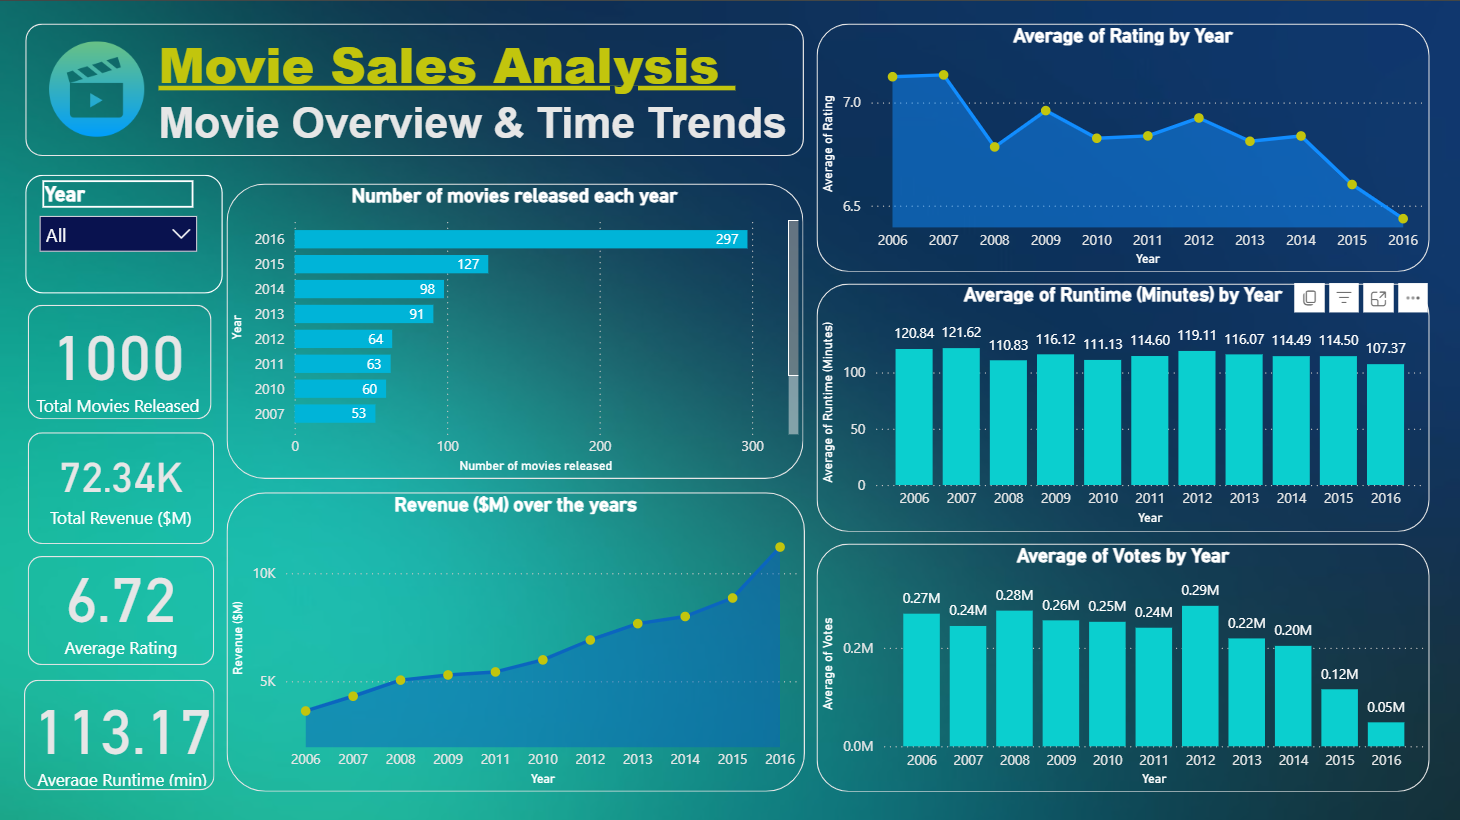

Layout of this report page (visuals, bound fields, positions):
{"tool":"powerbi","page":{"name":"Page 1","canvas":[1280,720],"ordinal":0},"visuals":[{"type":"shape","box":[22.9,19.3,680.4,115.8],"z":0,"group":"g1"},{"type":"shape","box":[199.1,159.3,504.3,258.2],"z":0},{"type":"shape","box":[25.3,265.4,160.5,100.1],"z":0,"group":"g2"},{"type":"textbox","box":[134.7,19.3,568.6,115.8],"z":10,"group":"g1"},{"type":"image","box":[22.9,30.2,125.2,92.9],"z":18,"group":"g1"},{"type":"clusteredBarChart","title":"Number of movies released each year ","fields":{"Category":["IMDB-Movies.Year"],"Y":["CountNonNull(IMDB-Movies.Title)"]},"box":[197.9,159.3,505.5,258.2],"z":1000},{"type":"shape","box":[199.1,429.5,505.5,261.8],"z":2000},{"type":"stackedAreaChart","title":"Revenue ($M) over the years ","fields":{"Y":["Sum(IMDB-Movies.Revenue (Millions))"],"Category":["IMDB-Movies.Year"]},"box":[199.1,429.5,505.5,261.8],"z":3000},{"type":"group","id":"g1","title":"Group 1","box":[22.9,19.3,680.4,115.8],"z":4000},{"type":"shape","box":[25.3,376.4,162.9,97.7],"z":5000,"group":"g4"},{"type":"card","fields":{"Values":["IMDB-Movies.Average Runtime"]},"box":[19.3,593.6,176.1,97.7],"z":5000},{"type":"shape","box":[714.2,19.3,535.7,217.2],"z":6000},{"type":"shape","box":[25.3,485,162.9,95.3],"z":6000,"group":"g2"},{"type":"shape","box":[714.2,246.7,535.7,217.2],"z":7000},{"type":"shape","box":[21.7,593.6,166.5,96.5],"z":7000,"group":"g2"},{"type":"card","title":"Total Movies Released","fields":{"Values":["CountNonNull(IMDB-Movies.Title)"]},"box":[25.3,265.4,158,100.1],"z":8000,"group":"g2"},{"type":"shape","box":[714.2,474.1,535.7,217.2],"z":8000},{"type":"stackedAreaChart","fields":{"Category":["IMDB-Movies.Year"],"Y":["Avg(IMDB-Movies.Rating)"]},"box":[714.2,19.3,535.7,217.2],"z":9000},{"type":"card","fields":{"Values":["IMDB-Movies.Average Rating"]},"box":[25.3,474.1,162.9,106.2],"z":9000,"group":"g2"},{"type":"clusteredColumnChart","fields":{"Category":["IMDB-Movies.Year"],"Y":["Avg(IMDB-Movies.Runtime (Minutes))"]},"box":[714.2,246.1,535.7,217.2],"z":10000},{"type":"columnChart","fields":{"Category":["IMDB-Movies.Year"],"Y":["Avg(IMDB-Movies.Votes)"]},"box":[714.2,474.1,535.7,217.2],"z":11000},{"type":"group","id":"g2","title":"Group 3","box":[21.7,265.4,166.5,424.7],"z":12000},{"type":"shape","box":[22.9,152,172.5,103.8],"z":13000,"group":"g3"},{"type":"card","fields":{"Values":["IMDB-Movies.Total Revenue"]},"box":[25.3,376.4,162.9,92.9],"z":13000,"group":"g4"},{"type":"slicer","fields":{"Values":["IMDB-Movies.Year"]},"box":[25.3,152,158,103.8],"z":14000,"group":"g3"},{"type":"group","id":"g3","title":"Group 4","box":[22.9,152,172.5,103.8],"z":14001},{"type":"group","id":"g4","title":"Group 2","box":[25.3,376.4,162.9,97.7],"z":18001,"group":"g2"}]}

Visuals, with their boxes in screenshot pixels (x1, y1, x2, y2), scaled from the page's 1280x720 canvas onto the 1460x820 screenshot:
shape: rect(26, 22, 802, 154)
shape: rect(227, 181, 802, 475)
shape: rect(29, 302, 212, 416)
textbox: rect(154, 22, 802, 154)
image: rect(26, 34, 169, 140)
"Number of movies released each year " clusteredBarChart: rect(226, 181, 802, 475)
shape: rect(227, 489, 804, 787)
"Revenue ($M) over the years " stackedAreaChart: rect(227, 489, 804, 787)
"Group 1" group: rect(26, 22, 802, 154)
shape: rect(29, 429, 215, 540)
card - IMDB-Movies.Average Runtime: rect(22, 676, 223, 787)
shape: rect(815, 22, 1426, 269)
shape: rect(29, 552, 215, 661)
shape: rect(815, 281, 1426, 528)
shape: rect(25, 676, 215, 786)
"Total Movies Released" card: rect(29, 302, 209, 416)
shape: rect(815, 540, 1426, 787)
stackedAreaChart - IMDB-Movies.Year x Avg(IMDB-Movies.Rating): rect(815, 22, 1426, 269)
card - IMDB-Movies.Average Rating: rect(29, 540, 215, 661)
clusteredColumnChart - IMDB-Movies.Year x Avg(IMDB-Movies.Runtime (Minutes)): rect(815, 280, 1426, 528)
columnChart - IMDB-Movies.Year x Avg(IMDB-Movies.Votes): rect(815, 540, 1426, 787)
"Group 3" group: rect(25, 302, 215, 786)
shape: rect(26, 173, 223, 291)
card - IMDB-Movies.Total Revenue: rect(29, 429, 215, 534)
slicer - IMDB-Movies.Year: rect(29, 173, 209, 291)
"Group 4" group: rect(26, 173, 223, 291)
"Group 2" group: rect(29, 429, 215, 540)
